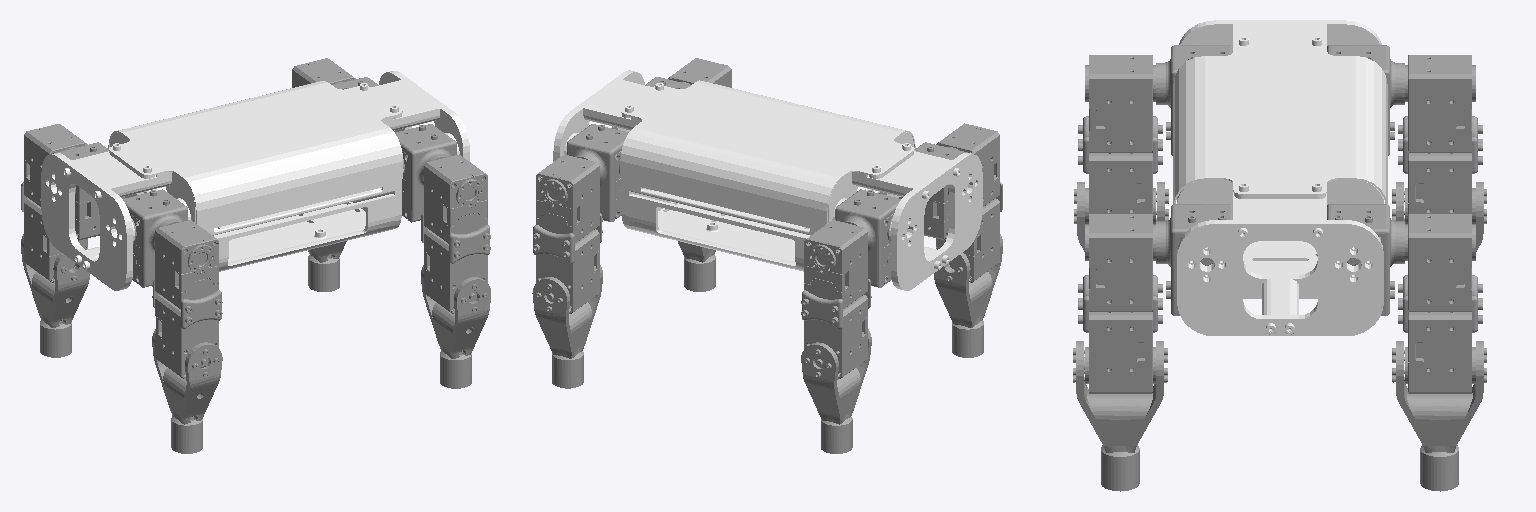
URDF robot description (spotmicro_proprio_dachshund):
<?xml version="1.0" encoding="utf-8"?>
<!-- This URDF was automatically created by SolidWorks to URDF Exporter! Originally created by [author] ([email redacted]) 
     Commit Version: 1.6.0-1-g15f4949  Build Version: 1.6.7594.29634
     For more information, please see http://wiki.ros.org/sw_urdf_exporter -->
<robot
  name="spotmicro_proprio_dachshund">
  <link
    name="chassis">
    <inertial>
      <origin
        xyz="-0.000444600921558843 0.000287035760745392 6.23058949931363E-06"
        rpy="0 0 0" />
      <mass
        value="0.848139055477732" />
      <inertia
        ixx="0.00115729109760246"
        ixy="-2.77581352782367E-07"
        ixz="7.59736388428773E-08"
        iyy="0.00153951399577208"
        iyz="-1.06489455875917E-08"
        izz="0.000992911865253475" />
    </inertial>
    <visual>
      <origin
        xyz="0 0 0"
        rpy="0 0 0" />
      <geometry>
        <mesh
          filename="package://spotmicro_proprio_dachshund/meshes/chassis.STL" />
      </geometry>
      <material
        name="">
        <color
          rgba="1 1 1 1" />
      </material>
    </visual>
    <collision>
      <origin
        xyz="0 0 0"
        rpy="0 0 0" />
      <geometry>
        <mesh
          filename="package://spotmicro_proprio_dachshund/meshes/chassis.STL" />
      </geometry>
    </collision>
  </link>
  <link
    name="FR_hip">
    <inertial>
      <origin
        xyz="-0.0032526 -0.0094319 0.019337"
        rpy="0 0 0" />
      <mass
        value="0.10477" />
      <inertia
        ixx="2.9556E-05"
        ixy="-1.6557E-06"
        ixz="2.1529E-11"
        iyy="1.7077E-05"
        iyz="-3.5945E-08"
        izz="2.6993E-05" />
    </inertial>
    <visual>
      <origin
        xyz="0 0 0"
        rpy="0 0 0" />
      <geometry>
        <mesh
          filename="package://spotmicro_proprio_dachshund/meshes/FR_hip.STL" />
      </geometry>
      <material
        name="">
        <color
          rgba="0.69804 0.69804 0.69804 1" />
      </material>
    </visual>
    <collision>
      <origin
        xyz="0 0 0"
        rpy="0 0 0" />
      <geometry>
        <mesh
          filename="package://spotmicro_proprio_dachshund/meshes/FR_hip.STL" />
      </geometry>
    </collision>
  </link>
  <joint
    name="FR_hip_roll"
    type="revolute">
    <origin
      xyz="0.081 -0.039 0.009"
      rpy="1.5708 0 1.5708" />
    <parent
      link="chassis" />
    <child
      link="FR_hip" />
    <axis
      xyz="0 0 -1" />
    <limit
      lower="-1.57"
      upper="1.57"
      effort="3"
      velocity="8" />
  </joint>
  <link
    name="FR_upper_leg">
    <inertial>
      <origin
        xyz="9.18425058227257E-12 -0.036 0.0234"
        rpy="0 0 0" />
      <mass
        value="0.173846444847994" />
      <inertia
        ixx="4.56794137444571E-05"
        ixy="-5.35217851199059E-22"
        ixz="-1.01799735917628E-21"
        iyy="2.70865709884967E-05"
        iyz="7.59367774240571E-08"
        izz="4.06256023463801E-05" />
    </inertial>
    <visual>
      <origin
        xyz="0 0 0"
        rpy="0 0 0" />
      <geometry>
        <mesh
          filename="package://spotmicro_proprio_dachshund/meshes/FR_upper_leg.STL" />
      </geometry>
      <material
        name="">
        <color
          rgba="0.698039215686274 0.698039215686274 0.698039215686274 1" />
      </material>
    </visual>
    <collision>
      <origin
        xyz="0 0 0"
        rpy="0 0 0" />
      <geometry>
        <mesh
          filename="package://spotmicro_proprio_dachshund/meshes/FR_upper_leg.STL" />
      </geometry>
    </collision>
  </link>
  <joint
    name="FR_hip_pitch"
    type="revolute">
    <origin
      xyz="-0.0226 0 0.019"
      rpy="0 -1.5708 0" />
    <parent
      link="FR_hip" />
    <child
      link="FR_upper_leg" />
    <axis
      xyz="0 0 1" />
    <limit
      lower="-1.57"
      upper="1.57"
      effort="3"
      velocity="8" />
  </joint>
  <link
    name="FR_lower_leg">
    <inertial>
      <origin
        xyz="-0.0235112982977331 -0.0333337125043985 -3.67222933450595E-08"
        rpy="0 0 0" />
      <mass
        value="0.0384832088212245" />
      <inertia
        ixx="1.18130728149393E-05"
        ixy="-1.15124771925603E-06"
        ixz="1.90278127708948E-13"
        iyy="3.33530357119838E-06"
        iyz="7.19926265841221E-12"
        izz="1.27532358869645E-05" />
    </inertial>
    <visual>
      <origin
        xyz="0 0 0"
        rpy="0 0 0" />
      <geometry>
        <mesh
          filename="package://spotmicro_proprio_dachshund/meshes/FR_lower_leg.STL" />
      </geometry>
      <material
        name="">
        <color
          rgba="0.698039215686274 0.698039215686274 0.698039215686274 1" />
      </material>
    </visual>
    <collision>
      <origin
        xyz="0 0 0"
        rpy="0 0 0" />
      <geometry>
        <mesh
          filename="package://spotmicro_proprio_dachshund/meshes/FR_lower_leg.STL" />
      </geometry>
    </collision>
  </link>
  <joint
    name="FR_knee_pitch"
    type="revolute">
    <origin
      xyz="0 -0.072 0"
      rpy="0 1.5708 0" />
    <parent
      link="FR_upper_leg" />
    <child
      link="FR_lower_leg" />
    <axis
      xyz="-1 0 0" />
    <limit
      lower="-1.57"
      upper="1.57"
      effort="3"
      velocity="8" />
  </joint>
  <link
    name="FL_hip">
    <inertial>
      <origin
        xyz="0.00325258361311268 -0.00943189564323483 0.01933695515458"
        rpy="0 0 0" />
      <mass
        value="0.104770220532977" />
      <inertia
        ixx="2.95563074359675E-05"
        ixy="1.65571747194463E-06"
        ixz="2.15606215402607E-11"
        iyy="1.70767674556504E-05"
        iyz="-3.59947414731157E-08"
        izz="2.69927745038649E-05" />
    </inertial>
    <visual>
      <origin
        xyz="0 0 0"
        rpy="0 0 0" />
      <geometry>
        <mesh
          filename="package://spotmicro_proprio_dachshund/meshes/FL_hip.STL" />
      </geometry>
      <material
        name="">
        <color
          rgba="0.698039215686274 0.698039215686274 0.698039215686274 1" />
      </material>
    </visual>
    <collision>
      <origin
        xyz="0 0 0"
        rpy="0 0 0" />
      <geometry>
        <mesh
          filename="package://spotmicro_proprio_dachshund/meshes/FL_hip.STL" />
      </geometry>
    </collision>
  </link>
  <joint
    name="FL_hip_roll"
    type="revolute">
    <origin
      xyz="0.081 0.039 0.009"
      rpy="1.5708 0 1.5708" />
    <parent
      link="chassis" />
    <child
      link="FL_hip" />
    <axis
      xyz="0 0 -1" />
    <limit
      lower="-1.57"
      upper="1.57"
      effort="3"
      velocity="8" />
  </joint>
  <link
    name="FL_upper_leg">
    <inertial>
      <origin
        xyz="9.18498610502638E-12 -0.0359999999999987 0.0234000000000002"
        rpy="0 0 0" />
      <mass
        value="0.173846444847994" />
      <inertia
        ixx="4.56794137444571E-05"
        ixy="-3.44811133722202E-22"
        ixz="-3.25230551041641E-20"
        iyy="2.70865709884967E-05"
        iyz="7.59367774240549E-08"
        izz="4.06256023463801E-05" />
    </inertial>
    <visual>
      <origin
        xyz="0 0 0"
        rpy="0 0 0" />
      <geometry>
        <mesh
          filename="package://spotmicro_proprio_dachshund/meshes/FL_upper_leg.STL" />
      </geometry>
      <material
        name="">
        <color
          rgba="0.698039215686274 0.698039215686274 0.698039215686274 1" />
      </material>
    </visual>
    <collision>
      <origin
        xyz="0 0 0"
        rpy="0 0 0" />
      <geometry>
        <mesh
          filename="package://spotmicro_proprio_dachshund/meshes/FL_upper_leg.STL" />
      </geometry>
    </collision>
  </link>
  <joint
    name="FL_hip_pitch"
    type="revolute">
    <origin
      xyz="0.0226 0 0.019"
      rpy="0 1.5708 0" />
    <parent
      link="FL_hip" />
    <child
      link="FL_upper_leg" />
    <axis
      xyz="0 0 -1" />
    <limit
      lower="-1.57"
      upper="1.57"
      effort="3"
      velocity="8" />
  </joint>
  <link
    name="FL_lower_leg">
    <inertial>
      <origin
        xyz="0.0232887017022664 -0.0333337125043985 -3.67222952046831E-08"
        rpy="0 0 0" />
      <mass
        value="0.0384832088212245" />
      <inertia
        ixx="1.18130728149393E-05"
        ixy="-1.15124771925602E-06"
        ixz="1.90278127181665E-13"
        iyy="3.33530357119839E-06"
        iyz="7.1992626591154E-12"
        izz="1.27532358869645E-05" />
    </inertial>
    <visual>
      <origin
        xyz="0 0 0"
        rpy="0 0 0" />
      <geometry>
        <mesh
          filename="package://spotmicro_proprio_dachshund/meshes/FL_lower_leg.STL" />
      </geometry>
      <material
        name="">
        <color
          rgba="0.698039215686274 0.698039215686274 0.698039215686274 1" />
      </material>
    </visual>
    <collision>
      <origin
        xyz="0 0 0"
        rpy="0 0 0" />
      <geometry>
        <mesh
          filename="package://spotmicro_proprio_dachshund/meshes/FL_lower_leg.STL" />
      </geometry>
    </collision>
  </link>
  <joint
    name="FL_knee_pitch"
    type="revolute">
    <origin
      xyz="0 -0.072 0"
      rpy="3.1416 -1.5708 3.1416" />
    <parent
      link="FL_upper_leg" />
    <child
      link="FL_lower_leg" />
    <axis
      xyz="-1 0 0" />
    <limit
      lower="-1.57"
      upper="1.57"
      effort="3"
      velocity="8" />
  </joint>
  <link
    name="RR_hip">
    <inertial>
      <origin
        xyz="-0.00325258370059503 -0.00943187135449414 -0.0230630580319289"
        rpy="0 0 0" />
      <mass
        value="0.104770220532571" />
      <inertia
        ixx="2.95563074929317E-05"
        ixy="-1.6557172171637E-06"
        ixz="2.15288051061514E-11"
        iyy="1.70767673986578E-05"
        iyz="-3.59453433045113E-08"
        izz="2.6992774503836E-05" />
    </inertial>
    <visual>
      <origin
        xyz="0 0 0"
        rpy="0 0 0" />
      <geometry>
        <mesh
          filename="package://spotmicro_proprio_dachshund/meshes/RR_hip.STL" />
      </geometry>
      <material
        name="">
        <color
          rgba="0.698039215686274 0.698039215686274 0.698039215686274 1" />
      </material>
    </visual>
    <collision>
      <origin
        xyz="0 0 0"
        rpy="0 0 0" />
      <geometry>
        <mesh
          filename="package://spotmicro_proprio_dachshund/meshes/RR_hip.STL" />
      </geometry>
    </collision>
  </link>
  <joint
    name="RR_hip_roll"
    type="revolute">
    <origin
      xyz="-0.0766 -0.039 0.009"
      rpy="1.5708 0 1.5708" />
    <parent
      link="chassis" />
    <child
      link="RR_hip" />
    <axis
      xyz="0 0 -1" />
    <limit
      lower="-1.57"
      upper="1.57"
      effort="3"
      velocity="8" />
  </joint>
  <link
    name="RR_upper_leg">
    <inertial>
      <origin
        xyz="9.18422282669695E-12 -0.0360000000000013 0.0234"
        rpy="0 0 0" />
      <mass
        value="0.173846444847994" />
      <inertia
        ixx="4.56794137444571E-05"
        ixy="3.19353178284792E-22"
        ixz="-2.34431263083692E-21"
        iyy="2.70865709884967E-05"
        iyz="7.59367774240538E-08"
        izz="4.06256023463801E-05" />
    </inertial>
    <visual>
      <origin
        xyz="0 0 0"
        rpy="0 0 0" />
      <geometry>
        <mesh
          filename="package://spotmicro_proprio_dachshund/meshes/RR_upper_leg.STL" />
      </geometry>
      <material
        name="">
        <color
          rgba="0.698039215686274 0.698039215686274 0.698039215686274 1" />
      </material>
    </visual>
    <collision>
      <origin
        xyz="0 0 0"
        rpy="0 0 0" />
      <geometry>
        <mesh
          filename="package://spotmicro_proprio_dachshund/meshes/RR_upper_leg.STL" />
      </geometry>
    </collision>
  </link>
  <joint
    name="RR_hip_pitch"
    type="revolute">
    <origin
      xyz="-0.0226 0 -0.0234"
      rpy="0 -1.5708 0" />
    <parent
      link="RR_hip" />
    <child
      link="RR_upper_leg" />
    <axis
      xyz="0 0 1" />
    <limit
      lower="-1.57"
      upper="1.57"
      effort="3"
      velocity="8" />
  </joint>
  <link
    name="RR_lower_leg">
    <inertial>
      <origin
        xyz="-0.0230112982977352 -0.0333337125043986 -3.67222933450595E-08"
        rpy="0 0 0" />
      <mass
        value="0.0384832088212245" />
      <inertia
        ixx="1.18130728149393E-05"
        ixy="-1.15124771925602E-06"
        ixz="1.90278127470108E-13"
        iyy="3.33530357119838E-06"
        iyz="7.19926265914702E-12"
        izz="1.27532358869645E-05" />
    </inertial>
    <visual>
      <origin
        xyz="0 0 0"
        rpy="0 0 0" />
      <geometry>
        <mesh
          filename="package://spotmicro_proprio_dachshund/meshes/RR_lower_leg.STL" />
      </geometry>
      <material
        name="">
        <color
          rgba="0.698039215686274 0.698039215686274 0.698039215686274 1" />
      </material>
    </visual>
    <collision>
      <origin
        xyz="0 0 0"
        rpy="0 0 0" />
      <geometry>
        <mesh
          filename="package://spotmicro_proprio_dachshund/meshes/RR_lower_leg.STL" />
      </geometry>
    </collision>
  </link>
  <joint
    name="RR_knee_pitch"
    type="revolute">
    <origin
      xyz="0 -0.072 0"
      rpy="0 1.5708 0" />
    <parent
      link="RR_upper_leg" />
    <child
      link="RR_lower_leg" />
    <axis
      xyz="-1 0 0" />
    <limit
      lower="-1.57"
      upper="1.57"
      effort="3"
      velocity="8" />
  </joint>
  <link
    name="RL_hip">
    <inertial>
      <origin
        xyz="0.0032525836861711 -0.00943189569919298 -0.0230630448850034"
        rpy="0 0 0" />
      <mass
        value="0.104770220532977" />
      <inertia
        ixx="2.95563074929387E-05"
        ixy="1.6557172568059E-06"
        ixz="2.15288045741106E-11"
        iyy="1.70767673986798E-05"
        iyz="-3.59947616232585E-08"
        izz="2.69927745038645E-05" />
    </inertial>
    <visual>
      <origin
        xyz="0 0 0"
        rpy="0 0 0" />
      <geometry>
        <mesh
          filename="package://spotmicro_proprio_dachshund/meshes/RL_hip.STL" />
      </geometry>
      <material
        name="">
        <color
          rgba="0.698039215686274 0.698039215686274 0.698039215686274 1" />
      </material>
    </visual>
    <collision>
      <origin
        xyz="0 0 0"
        rpy="0 0 0" />
      <geometry>
        <mesh
          filename="package://spotmicro_proprio_dachshund/meshes/RL_hip.STL" />
      </geometry>
    </collision>
  </link>
  <joint
    name="RL_hip_roll"
    type="revolute">
    <origin
      xyz="-0.0766 0.039 0.009"
      rpy="1.5708 0 1.5708" />
    <parent
      link="chassis" />
    <child
      link="RL_hip" />
    <axis
      xyz="0 0 -1" />
    <limit
      lower="-1.57"
      upper="1.57"
      effort="3"
      velocity="8" />
  </joint>
  <link
    name="RL_upper_leg">
    <inertial>
      <origin
        xyz="9.18497222723857E-12 -0.036 0.0234000000000002"
        rpy="0 0 0" />
      <mass
        value="0.173846444847994" />
      <inertia
        ixx="4.56794137444571E-05"
        ixy="-2.09651104332113E-21"
        ixz="-3.2250697981248E-20"
        iyy="2.70865709884967E-05"
        iyz="7.59367774240569E-08"
        izz="4.06256023463801E-05" />
    </inertial>
    <visual>
      <origin
        xyz="0 0 0"
        rpy="0 0 0" />
      <geometry>
        <mesh
          filename="package://spotmicro_proprio_dachshund/meshes/RL_upper_leg.STL" />
      </geometry>
      <material
        name="">
        <color
          rgba="0.698039215686274 0.698039215686274 0.698039215686274 1" />
      </material>
    </visual>
    <collision>
      <origin
        xyz="0 0 0"
        rpy="0 0 0" />
      <geometry>
        <mesh
          filename="package://spotmicro_proprio_dachshund/meshes/RL_upper_leg.STL" />
      </geometry>
    </collision>
  </link>
  <joint
    name="RL_hip_pitch"
    type="revolute">
    <origin
      xyz="0.0226 0 -0.0234"
      rpy="0 1.5708 0" />
    <parent
      link="RL_hip" />
    <child
      link="RL_upper_leg" />
    <axis
      xyz="0 0 -1" />
    <limit
      lower="-1.57"
      upper="1.57"
      effort="3"
      velocity="8" />
  </joint>
  <link
    name="RL_lower_leg">
    <inertial>
      <origin
        xyz="0.0232887017022658 -0.0333337125043986 -3.67222951908053E-08"
        rpy="0 0 0" />
      <mass
        value="0.0384832088212245" />
      <inertia
        ixx="1.18130728149393E-05"
        ixy="-1.15124771925602E-06"
        ixz="1.90278125802396E-13"
        iyy="3.33530357119839E-06"
        iyz="7.19926265951136E-12"
        izz="1.27532358869645E-05" />
    </inertial>
    <visual>
      <origin
        xyz="0 0 0"
        rpy="0 0 0" />
      <geometry>
        <mesh
          filename="package://spotmicro_proprio_dachshund/meshes/RL_lower_leg.STL" />
      </geometry>
      <material
        name="">
        <color
          rgba="0.698039215686274 0.698039215686274 0.698039215686274 1" />
      </material>
    </visual>
    <collision>
      <origin
        xyz="0 0 0"
        rpy="0 0 0" />
      <geometry>
        <mesh
          filename="package://spotmicro_proprio_dachshund/meshes/RL_lower_leg.STL" />
      </geometry>
    </collision>
  </link>
  <joint
    name="RL_knee_pitch"
    type="revolute">
    <origin
      xyz="0 -0.072 0"
      rpy="3.1416 -1.5708 3.1416" />
    <parent
      link="RL_upper_leg" />
    <child
      link="RL_lower_leg" />
    <axis
      xyz="-1 0 0" />
    <limit
      lower="-1.57"
      upper="1.57"
      effort="3"
      velocity="8" />
  </joint>
</robot>

--- Render facts (derived) ---
The picture shows the robot from 3 angles, left to right: view 1: azimuth 30°, elevation 25°; view 2: azimuth 150°, elevation 25°; view 3: azimuth 270°, elevation 25°; orthographic projection.
Model spotmicro_proprio_dachshund with 13 links and 12 joints (12 revolute), rooted at chassis, posed every joint at zero.
Visible links, largest first — view 1: chassis, FR_upper_leg, RR_upper_leg, FR_lower_leg, RR_lower_leg, RL_upper_leg, RL_lower_leg, RR_hip, FR_hip, RL_hip, FL_lower_leg, FL_upper_leg; view 2: chassis, FL_upper_leg, RL_upper_leg, RL_lower_leg, FL_lower_leg, RR_upper_leg, RR_lower_leg, RL_hip, FL_hip, RR_hip, FR_lower_leg, FR_upper_leg; view 3: chassis, FR_upper_leg, FL_upper_leg, RR_upper_leg, RL_upper_leg, FL_lower_leg, FR_lower_leg, FL_hip, FR_hip, RL_hip, RR_hip, RR_lower_leg (+1 smaller).
Boxes of the visible links, <box> form: chassis: <box>41,71,469,290</box>; FR_upper_leg: <box>421,154,490,313</box>; RR_upper_leg: <box>152,220,222,378</box>; FR_lower_leg: <box>421,265,490,388</box>; RR_lower_leg: <box>152,329,222,453</box>; RL_upper_leg: <box>21,124,87,282</box>; RL_lower_leg: <box>21,234,89,357</box>; RR_hip: <box>123,189,187,287</box>; FR_hip: <box>395,124,456,222</box>; RL_hip: <box>57,142,124,240</box>; FL_lower_leg: <box>308,241,346,291</box>; FL_upper_leg: <box>292,58,355,87</box>; chassis: <box>553,70,982,290</box>; FL_upper_leg: <box>533,154,602,313</box>; RL_upper_leg: <box>801,220,871,378</box>; RL_lower_leg: <box>801,329,871,453</box>; FL_lower_leg: <box>532,265,602,388</box>; RR_upper_leg: <box>936,123,1002,282</box>; RR_lower_leg: <box>934,234,1002,357</box>; RL_hip: <box>835,189,900,287</box>; FL_hip: <box>567,124,628,221</box>; RR_hip: <box>899,142,967,240</box>; FR_lower_leg: <box>678,241,715,291</box>; FR_upper_leg: <box>668,58,731,87</box>; chassis: <box>1173,20,1387,335</box>; FR_upper_leg: <box>1078,214,1162,393</box>; FL_upper_leg: <box>1398,214,1482,393</box>; RR_upper_leg: <box>1078,55,1162,223</box>; RL_upper_leg: <box>1398,55,1482,223</box>; FL_lower_leg: <box>1392,341,1486,491</box>; FR_lower_leg: <box>1073,341,1167,491</box>; FL_hip: <box>1327,204,1404,315</box>; FR_hip: <box>1156,204,1232,315</box>; RL_hip: <box>1327,45,1404,155</box>; RR_hip: <box>1156,45,1232,155</box>; RR_lower_leg: <box>1074,182,1168,251</box>.
Size in the robot's own frame: 0.262 by 0.2205 by 0.174 metres.
13 mesh visuals loaded from 13 distinct referenced files (13 binary STL).